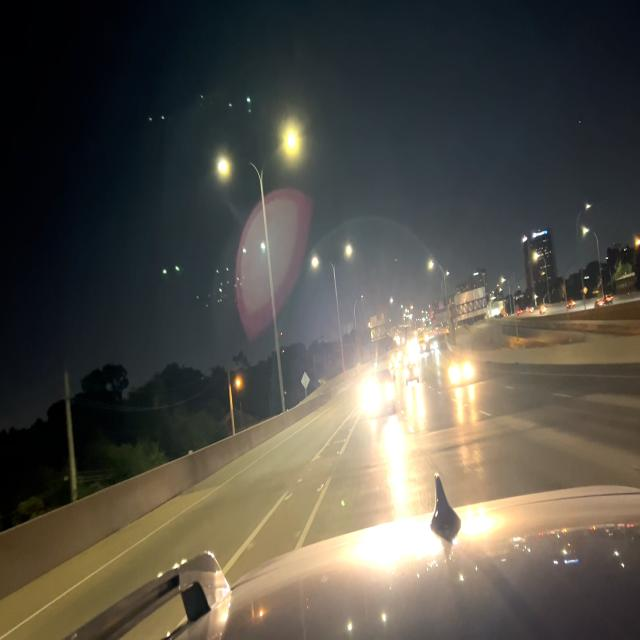back-of-sign: (452, 287, 489, 326), (370, 310, 388, 345), (301, 369, 311, 391)
